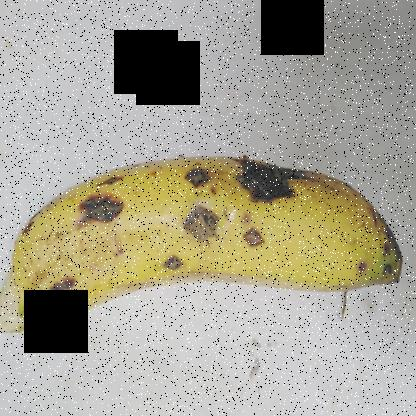rotten: (72, 154, 140, 251), (235, 152, 302, 220), (166, 158, 220, 208), (171, 202, 224, 251), (35, 263, 84, 312), (152, 243, 186, 291), (230, 226, 266, 259)
